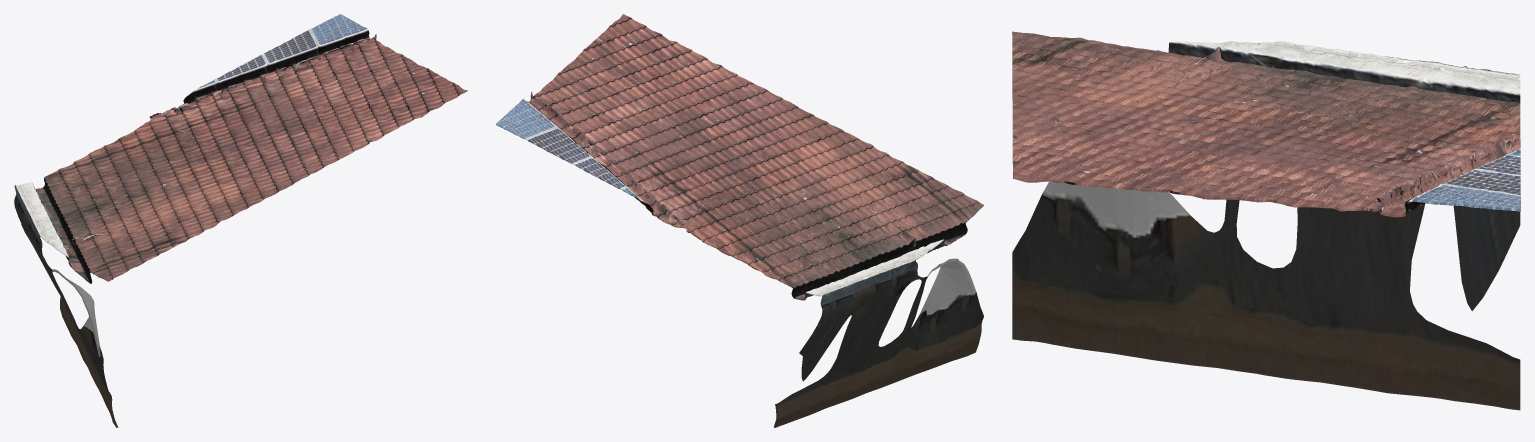
3 renders of one model, left to right at view 1: azimuth 30°, elevation 25°; view 2: azimuth 150°, elevation 25°; view 3: azimuth 270°, elevation 25°, orthographic. The views are drawn at different scales.
Visible parts, largest first — view 1: node_192; view 2: node_192; view 3: node_192.
Part boxes in pixels (bbox=[...]): node_192: bbox=[14, 14, 467, 427]; node_192: bbox=[496, 14, 983, 427]; node_192: bbox=[1012, 31, 1520, 410].
Size of the model in its own units: 8.98 by 6.01 by 5.5.
1 material, 1 textured.
